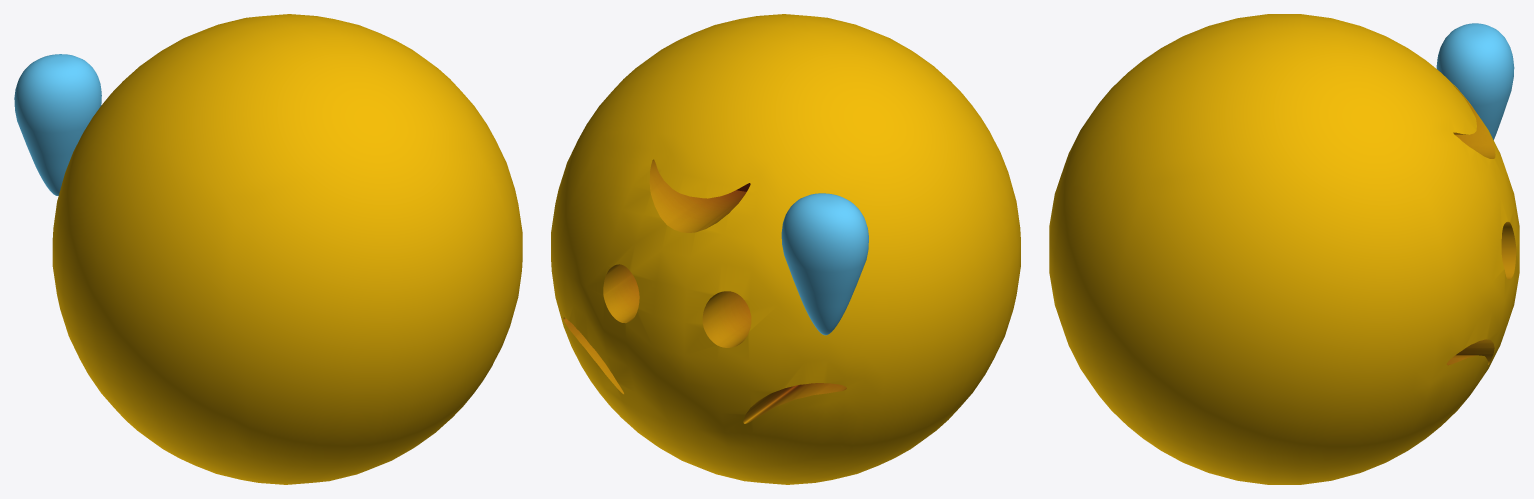
File: emoji_04.obj
The picture shows the model from 3 angles, left to right: view 1: azimuth 30°, elevation 25°; view 2: azimuth 150°, elevation 25°; view 3: azimuth 270°, elevation 25°; orthographic projection.
Parts seen in each view (by area): view 1: 1, 3; view 2: 1, 2, 3; view 3: 1, 3, 2.
Boxes of the visible parts, left/top/right/bottom form: 1: left=52, top=14, right=522, bottom=484; 3: left=14, top=54, right=101, bottom=195; 1: left=551, top=14, right=1020, bottom=484; 2: left=563, top=159, right=846, bottom=423; 3: left=781, top=193, right=868, bottom=335; 1: left=1049, top=14, right=1519, bottom=484; 3: left=1436, top=23, right=1514, bottom=139; 2: left=1446, top=86, right=1516, bottom=365.
Size of the model in its own units: 338 by 338 by 338.
Materials: 3 (3 with a texture image).
